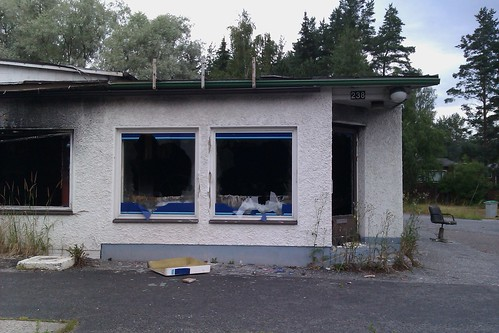building: (1, 77, 424, 263)
chair: (425, 202, 462, 247)
tree: (448, 5, 499, 194)
vegetation: (1, 1, 412, 74)
window: (109, 126, 203, 218), (207, 126, 301, 218), (1, 121, 74, 211)
